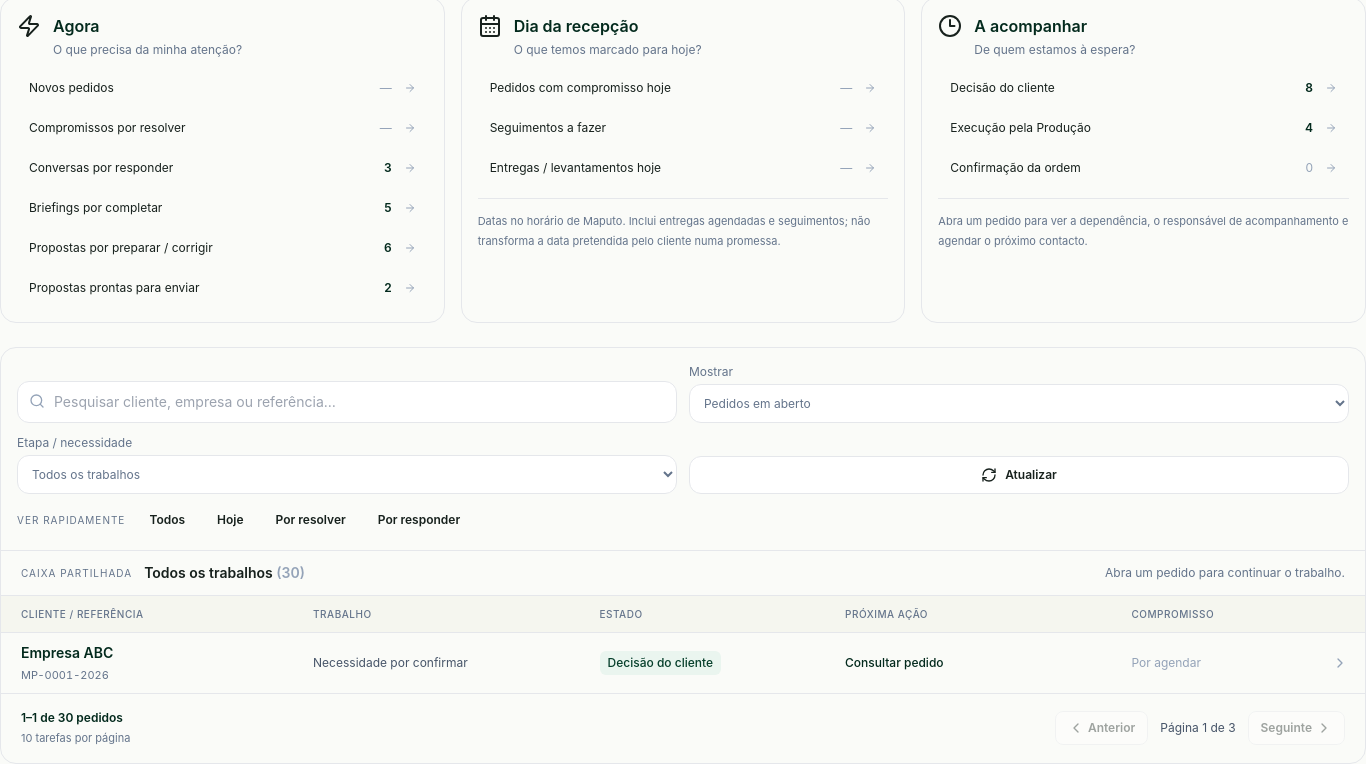
Test: Reception workspace › keeps an actively reserved proposal read-only with no editing bypass
The width and height of the screenshot is (1366, 764).
(page scrolled)
Click the button named "MP-0001-2026 Empresa ABC": (1340, 663) 1318,641 -> 1362,685
(page scrolled)
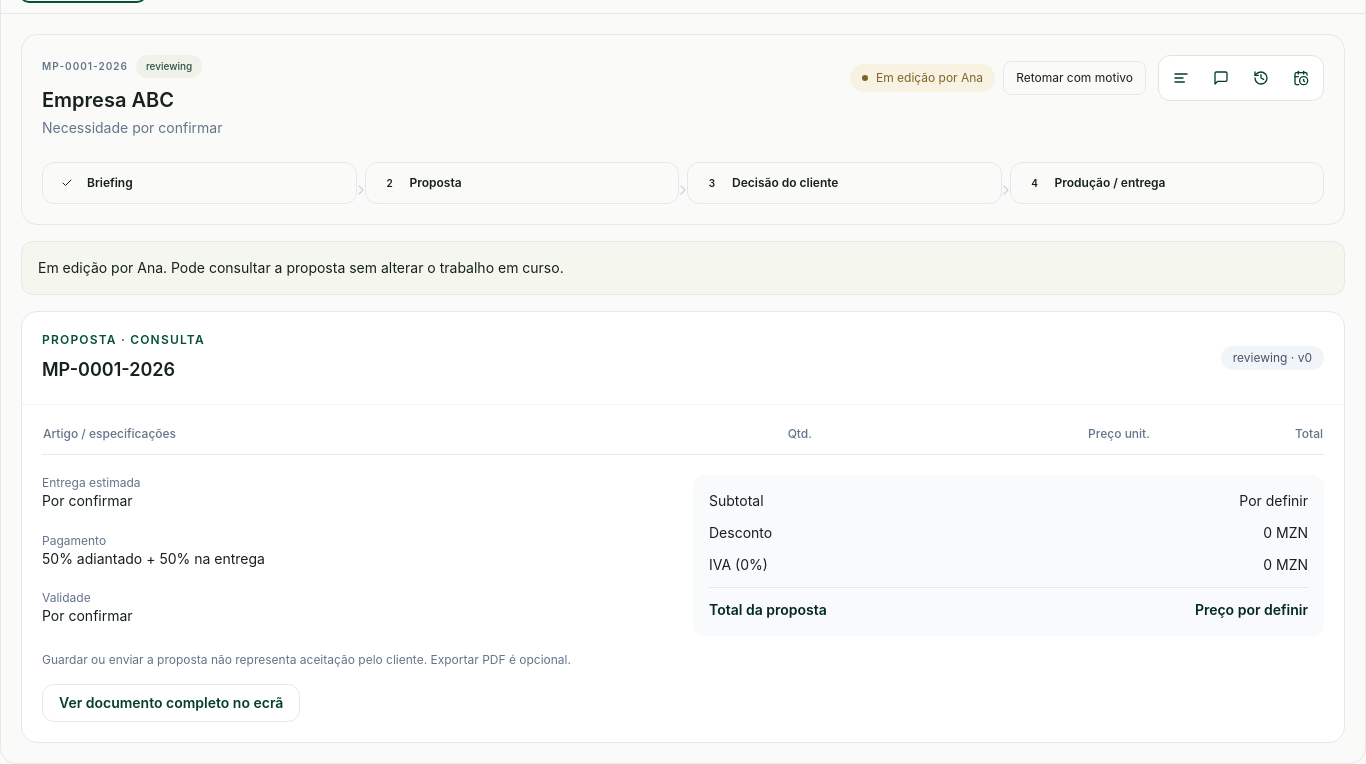
expect the text "Em edição por Ana. Pode consultar a proposta sem alterar o trabalho em curso." is shown: met, box 21,241 -> 1345,295
expect the element named "Consulta da proposta" is shown: met, box 21,311 -> 1345,743
